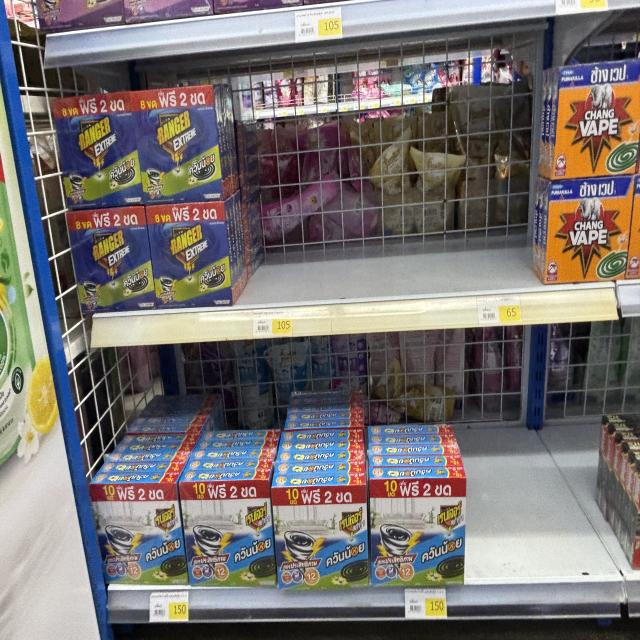empty_shelf: (222, 68, 549, 303), (83, 326, 467, 482), (461, 322, 627, 581)
